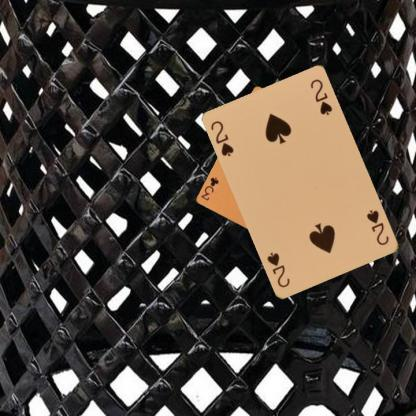2s: (364, 207, 391, 247), (208, 118, 235, 158)
